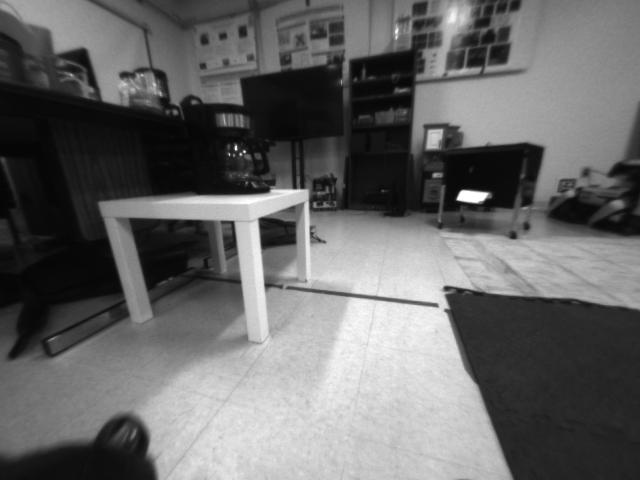coffee_pot: (178, 101, 275, 194)
